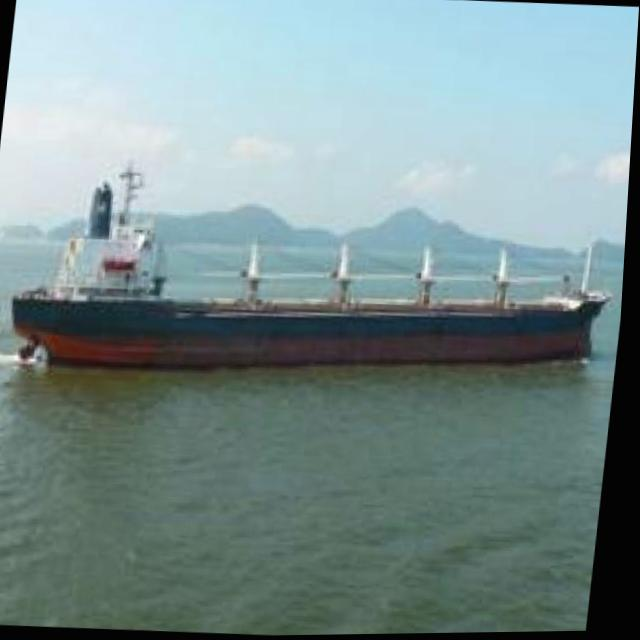ship2: (15, 162, 616, 372)
